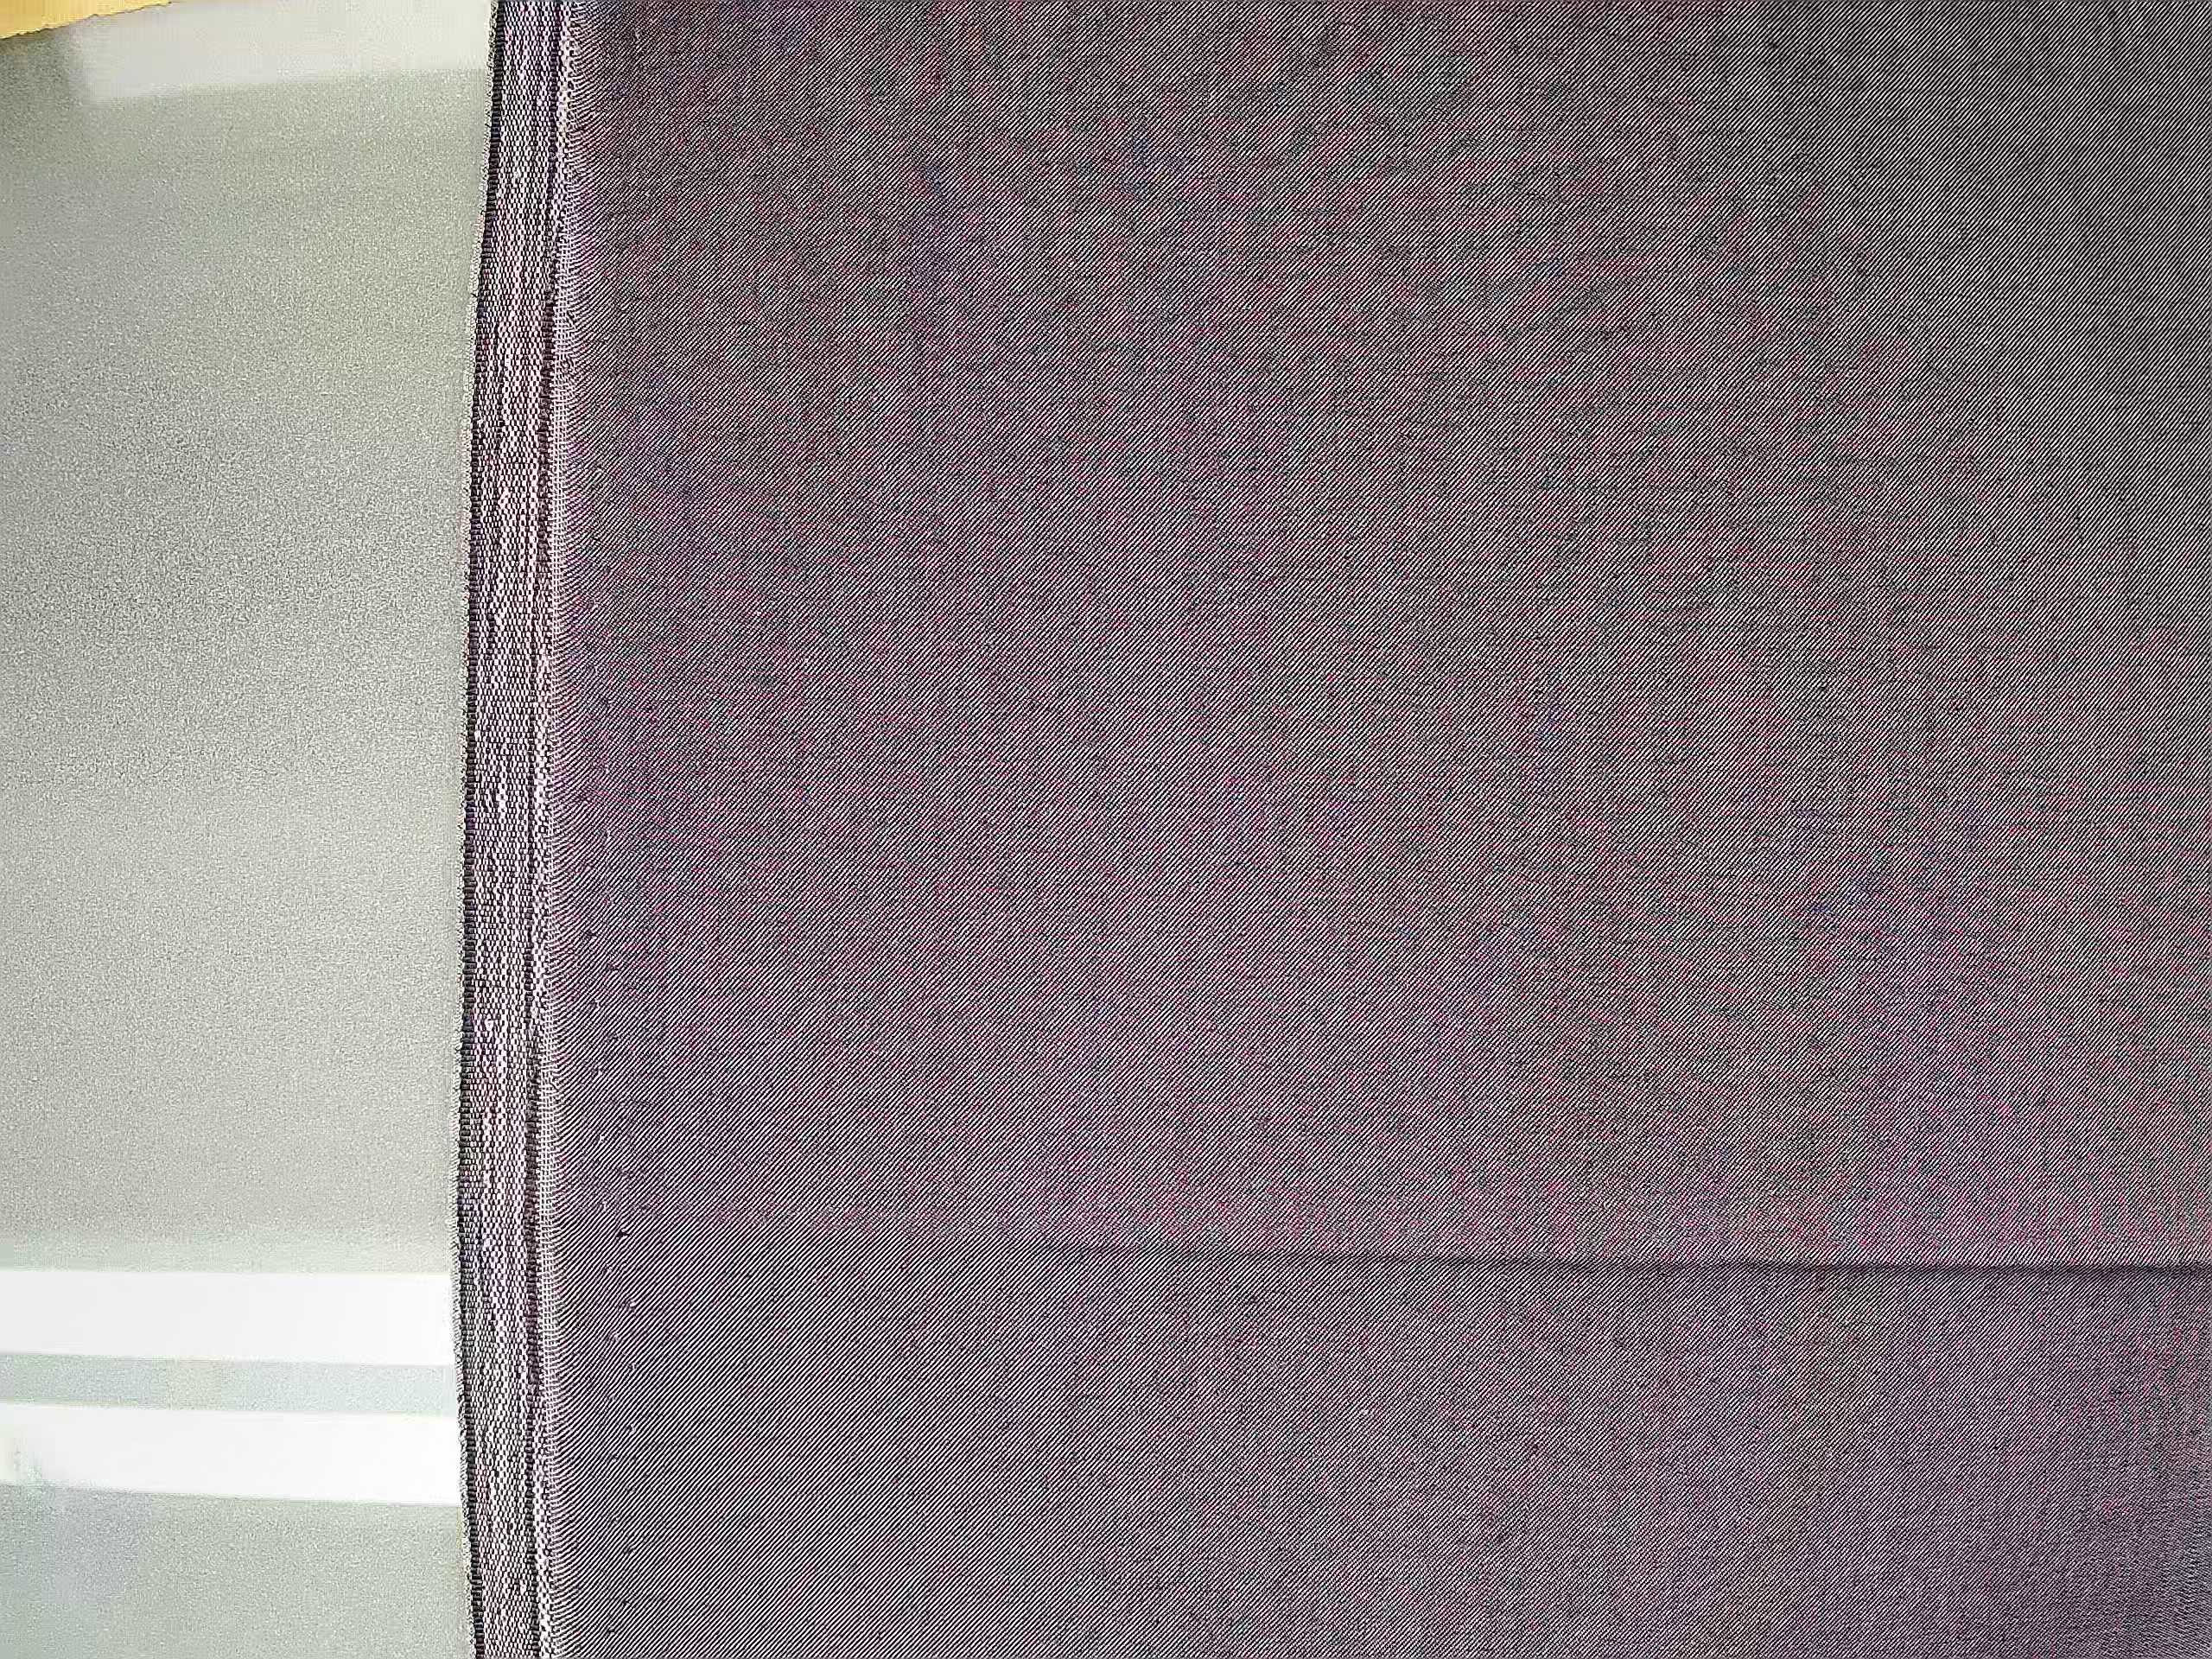others: (568, 211, 637, 1169)
